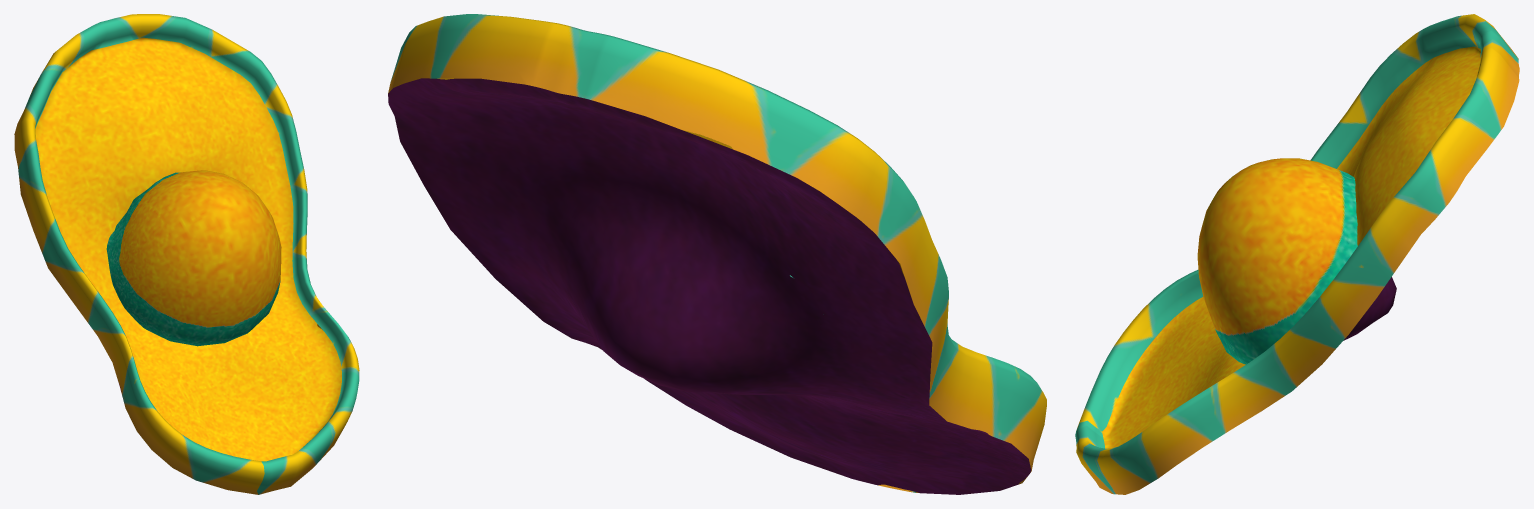
The model's file is chapeau.fbx.
The picture shows the model from 3 angles, left to right: view 1: azimuth 30°, elevation 25°; view 2: azimuth 150°, elevation 25°; view 3: azimuth 270°, elevation 25°; orthographic projection. The views are drawn at different scales.
Parts seen in each view (by area): view 1: polySurface6; view 2: polySurface6; view 3: polySurface6.
Part boxes in pixels (x1=…): polySurface6: x1=14, y1=14, x2=359, y2=494; polySurface6: x1=388, y1=14, x2=1046, y2=494; polySurface6: x1=1075, y1=14, x2=1519, y2=494.
Bounding box in the file's own units: 1.45 × 1.87 × 1.72.
